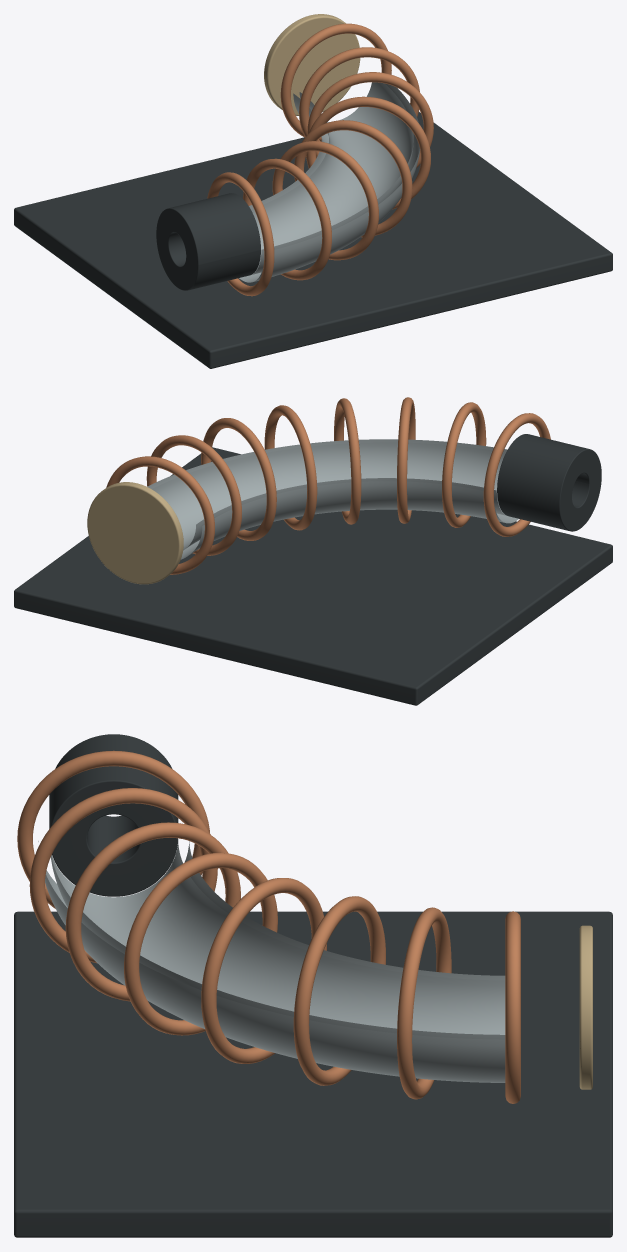
Rendered from curved.glb.
The picture shows the model from 3 angles, top to bottom: view 1: azimuth 30°, elevation 25°; view 2: azimuth 150°, elevation 25°; view 3: azimuth 270°, elevation 25°; orthographic projection. The views are drawn at different scales.
Visible parts, largest first — view 1: Curved guide support, Bent cutaway channel, Source inlet, Exit collector, Guide magnet conductor.003, Guide magnet conductor.004, Guide magnet conductor.002, Guide magnet conductor.005, Guide magnet conductor, Guide magnet conductor.001, Guide magnet conductor.007, Guide magnet conductor.006; view 2: Curved guide support, Bent cutaway channel, Source inlet, Exit collector, Guide magnet conductor, Guide magnet conductor.007, Guide magnet conductor.006, Guide magnet conductor.001, Guide magnet conductor.005, Guide magnet conductor.002, Guide magnet conductor.004, Guide magnet conductor.003; view 3: Curved guide support, Bent cutaway channel, Source inlet, Guide magnet conductor.003, Guide magnet conductor.004, Guide magnet conductor.002, Guide magnet conductor.005, Guide magnet conductor.006, Guide magnet conductor.001, Guide magnet conductor.007, Guide magnet conductor, Exit collector.
Part boxes in pixels (box(x1,y1,x2,y2)): Curved guide support: box(14, 112, 612, 368); Bent cutaway channel: box(239, 82, 420, 282); Source inlet: box(156, 193, 260, 290); Exit collector: box(264, 14, 360, 115); Guide magnet conductor.003: box(272, 141, 378, 260); Guide magnet conductor.004: box(294, 120, 412, 237); Guide magnet conductor.002: box(243, 158, 331, 280); Guide magnet conductor.005: box(306, 96, 430, 209); Guide magnet conductor: box(280, 23, 391, 141); Guide magnet conductor.001: box(207, 172, 274, 296); Guide magnet conductor.007: box(299, 47, 419, 141); Guide magnet conductor.006: box(307, 72, 433, 168); Curved guide support: box(14, 447, 612, 705); Bent cutaway channel: box(147, 439, 518, 559); Source inlet: box(497, 434, 601, 531); Exit collector: box(87, 482, 183, 584); Guide magnet conductor: box(106, 456, 214, 574); Guide magnet conductor.007: box(146, 435, 241, 555); Guide magnet conductor.006: box(201, 418, 276, 540); Guide magnet conductor.001: box(483, 413, 550, 536); Guide magnet conductor.005: box(264, 405, 317, 530); Guide magnet conductor.002: box(442, 402, 486, 527); Guide magnet conductor.004: box(334, 398, 361, 524); Guide magnet conductor.003: box(397, 397, 415, 523); Curved guide support: box(14, 911, 612, 1237); Bent cutaway channel: box(38, 839, 505, 1082); Source inlet: box(49, 734, 178, 896); Guide magnet conductor.003: box(65, 822, 240, 1001); Guide magnet conductor.004: box(124, 852, 277, 1035); Guide magnet conductor.002: box(29, 788, 217, 963); Guide magnet conductor.005: box(201, 878, 326, 1063); Guide magnet conductor.006: box(293, 896, 385, 1085); Guide magnet conductor.001: box(17, 750, 209, 908); Guide magnet conductor.007: box(397, 907, 451, 1099); Guide magnet conductor: box(505, 911, 520, 1103); Exit collector: box(579, 925, 592, 1089).
Size of the model in its own units: 3.2 by 1.17 by 2.7.
